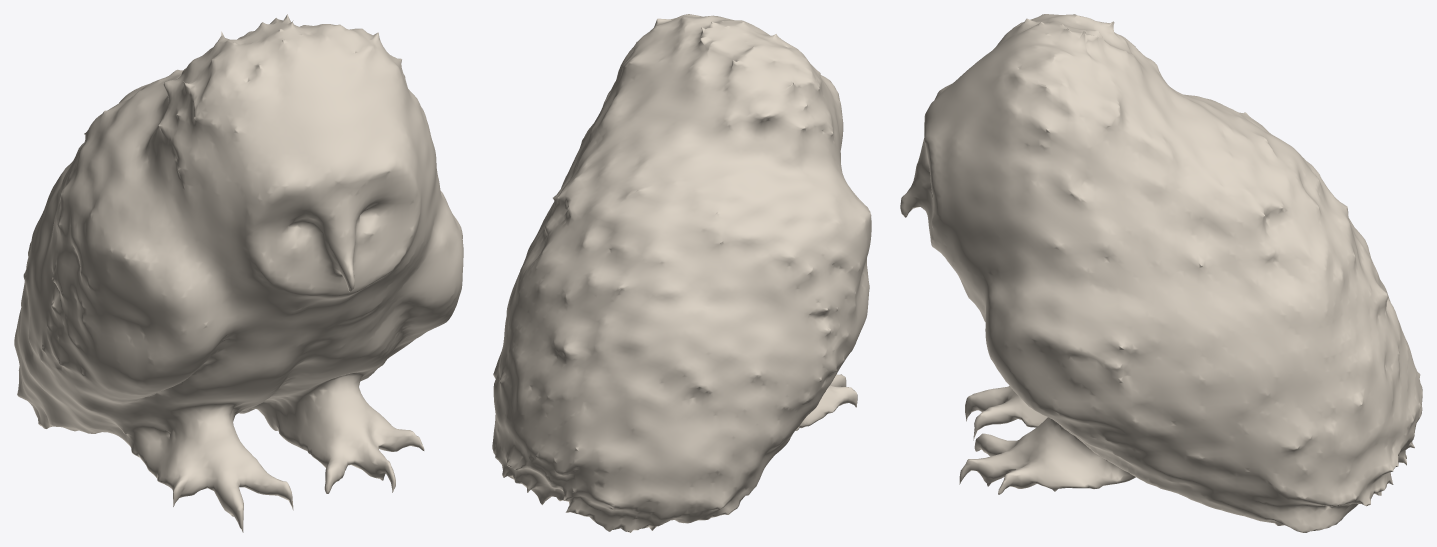
Rendered from smoothed-ART_UNAPPROVED.glb.
The picture shows the model from 3 angles, left to right: view 1: azimuth 30°, elevation 25°; view 2: azimuth 150°, elevation 25°; view 3: azimuth 270°, elevation 25°; orthographic projection. The views are drawn at different scales.
Parts seen in each view (by area): view 1: run100_voxel_55k_REAL_NEURAL_SOURCE; view 2: run100_voxel_55k_REAL_NEURAL_SOURCE; view 3: run100_voxel_55k_REAL_NEURAL_SOURCE.
Boxes of the visible parts, left/top/right/bottom form: run100_voxel_55k_REAL_NEURAL_SOURCE: left=14, top=14, right=463, bottom=532; run100_voxel_55k_REAL_NEURAL_SOURCE: left=492, top=14, right=871, bottom=532; run100_voxel_55k_REAL_NEURAL_SOURCE: left=900, top=14, right=1422, bottom=532.
Size of the model in its own units: 1.49 by 1.87 by 1.94.
